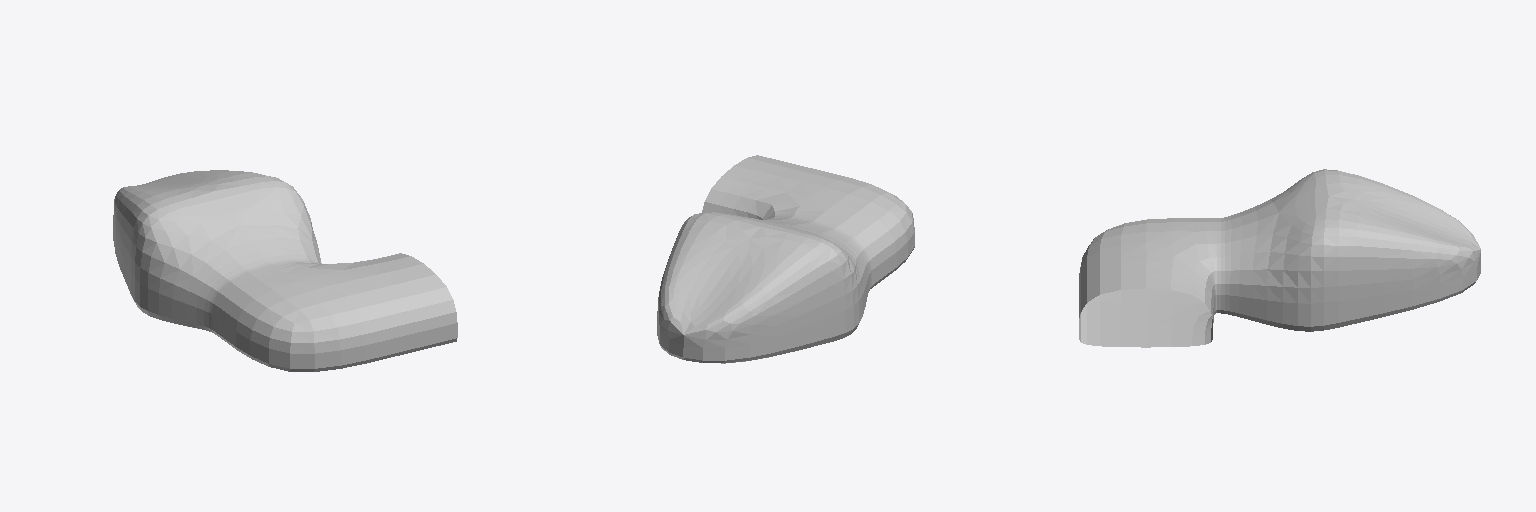
File: head_mid.obj
The picture shows the model from 3 angles: view 1: azimuth 30°, elevation 25°; view 2: azimuth 150°, elevation 25°; view 3: azimuth 270°, elevation 25°; orthographic projection.
Parts seen in each view (by area): view 1: Body_Corner_Cube.000; view 2: Body_Corner_Cube.000; view 3: Body_Corner_Cube.000.
Part boxes in pixels (x1,y1,x2,y2): Body_Corner_Cube.000: (113, 170, 457, 371); Body_Corner_Cube.000: (657, 155, 914, 363); Body_Corner_Cube.000: (1079, 169, 1480, 347).
Bounding box in the file's own units: 0.8634 × 0.4191 × 1.49.